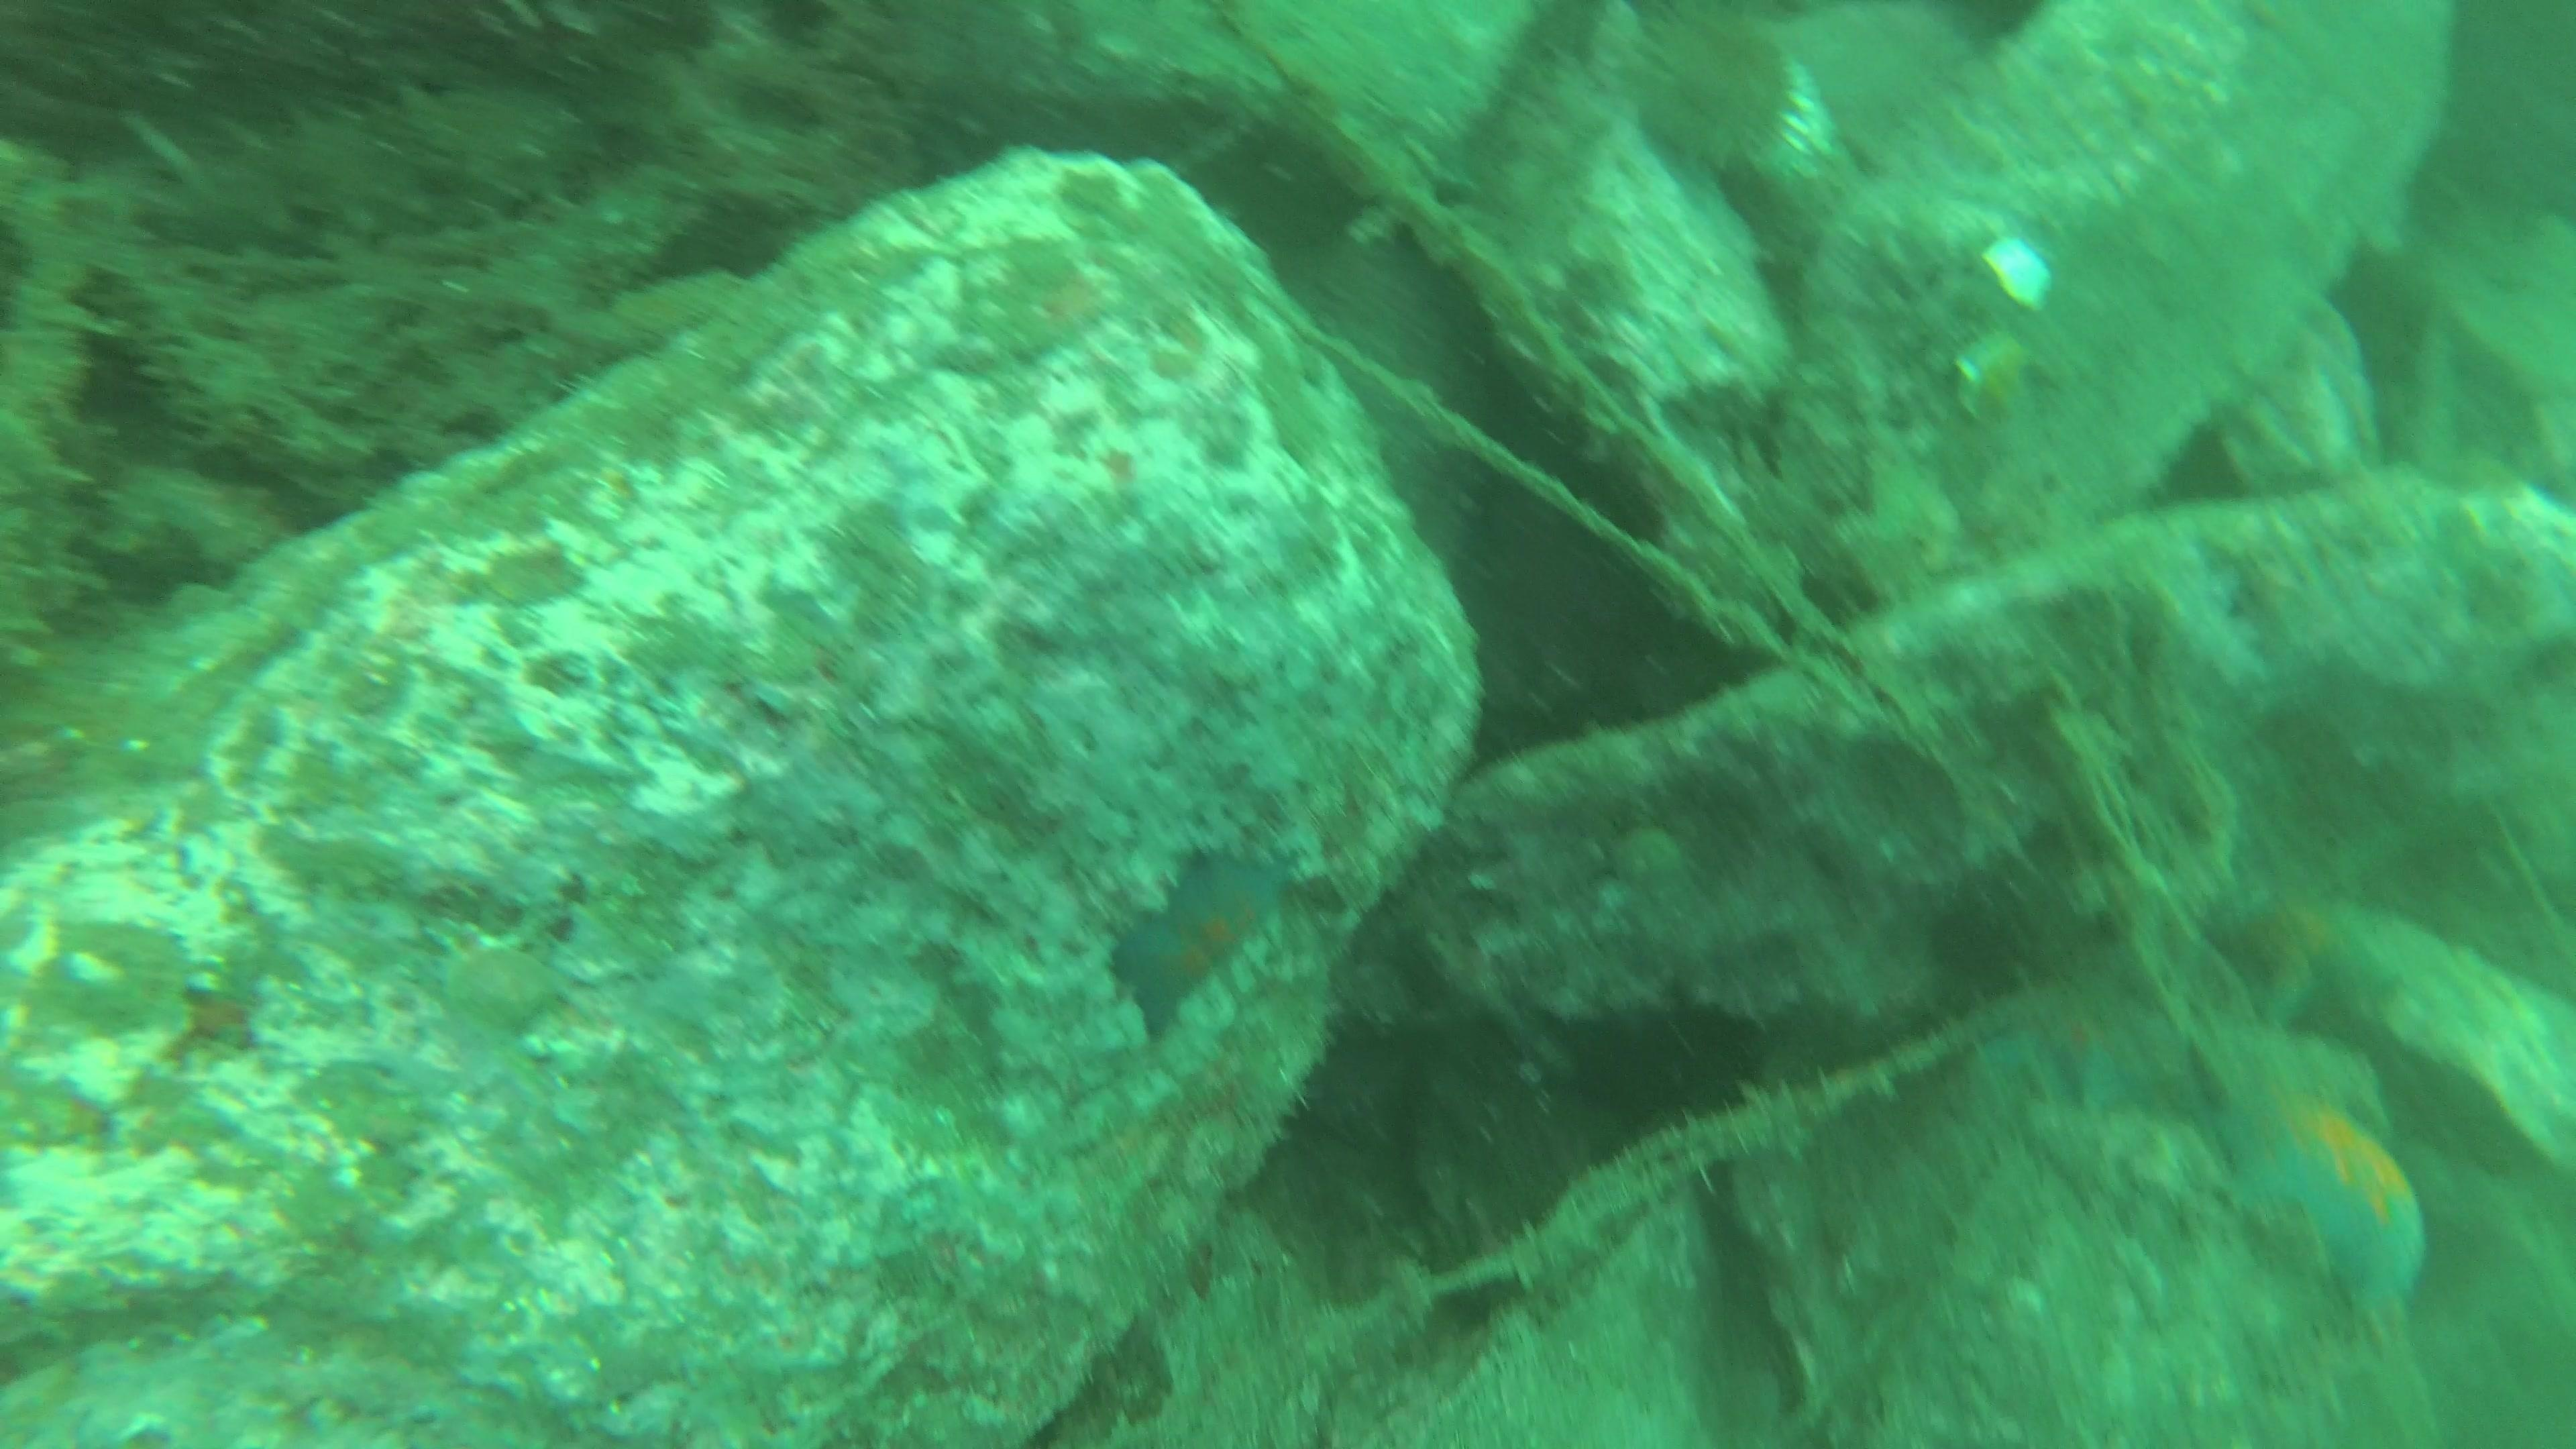echinus: (1621, 4, 1812, 180), (1555, 987, 1771, 1141)
holothurian: (115, 71, 628, 271)
starfish: (2204, 1072, 2440, 1332), (1102, 839, 1306, 1042), (2196, 856, 2410, 1040), (1964, 964, 2194, 1123)
